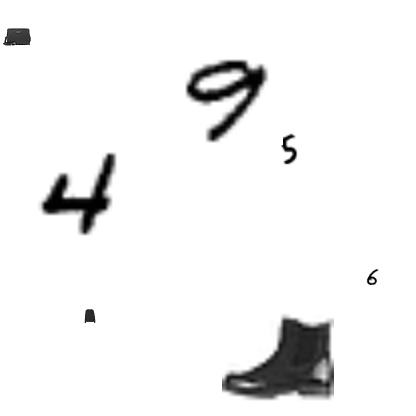4: (23, 138, 135, 250)
5: (268, 128, 310, 170)
6: (361, 267, 383, 289)
9: (171, 33, 283, 145)
Ankle_boot: (222, 299, 334, 411)
Bag: (3, 23, 31, 51)
Pullover: (83, 309, 97, 323)
